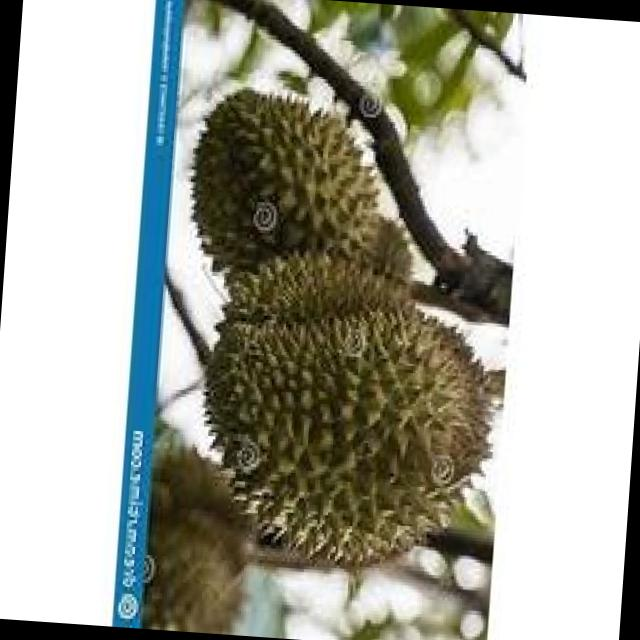fruit: (161, 282, 524, 614), (160, 64, 432, 437)
